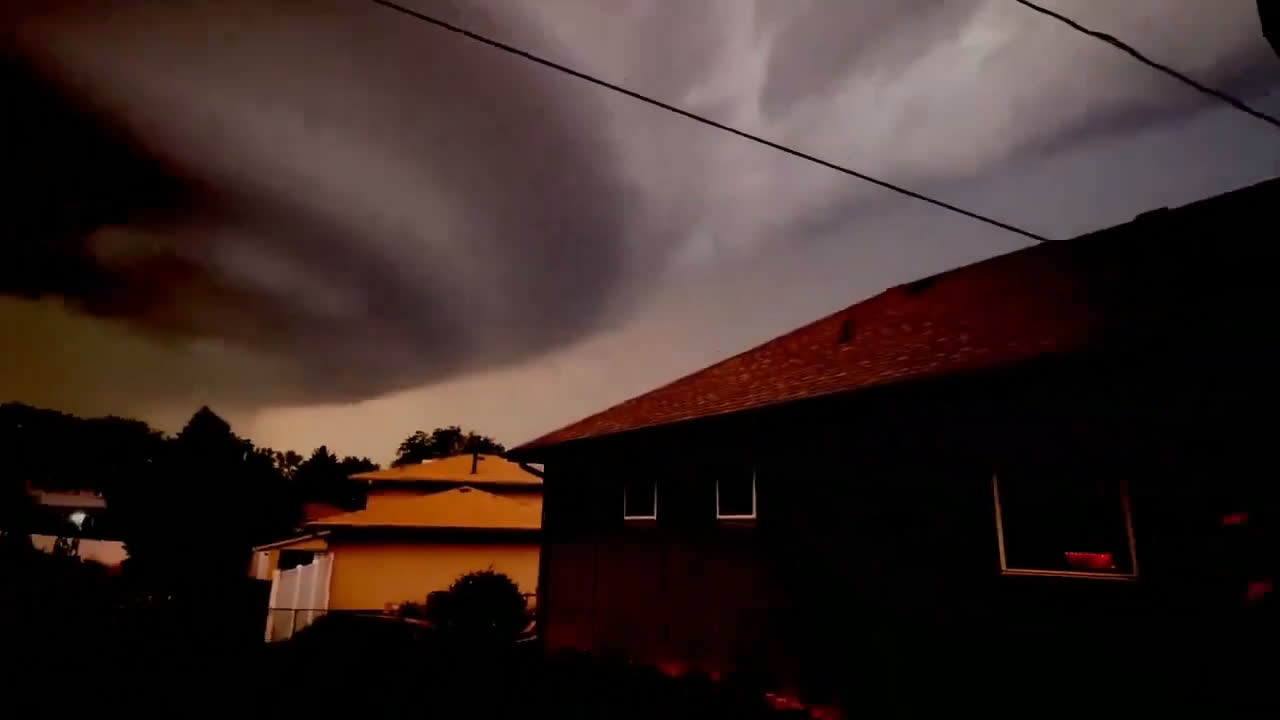FFD: (623, 92, 1280, 413)
RFD: (0, 297, 314, 464)
mesocyclone: (0, 0, 660, 411)
striations: (47, 61, 506, 371)
wall cloud: (0, 227, 363, 386)
